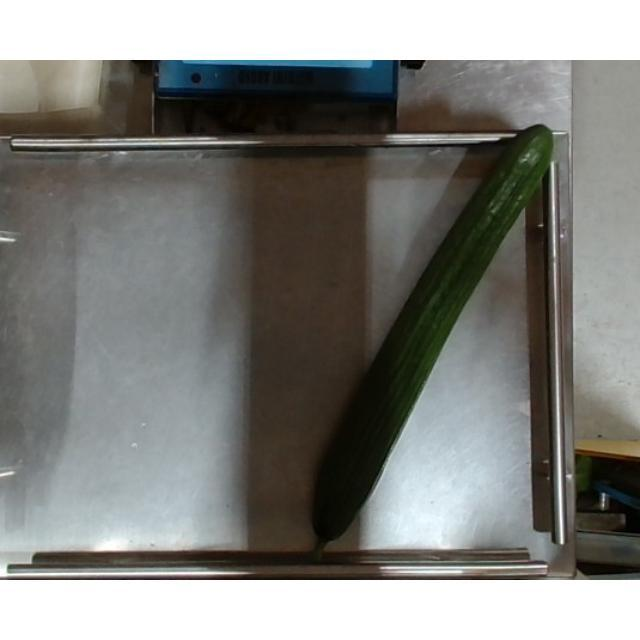cucumber: (309, 122, 553, 566)
